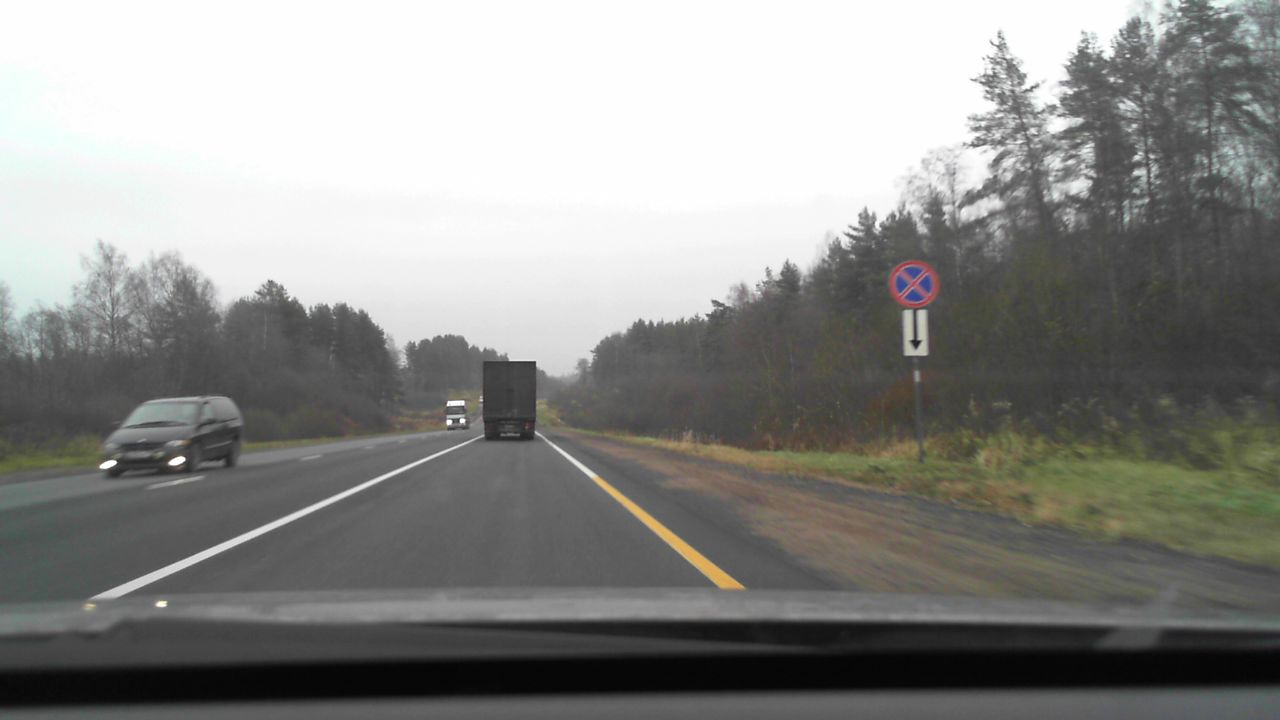No Parking: (889, 259, 940, 308)
